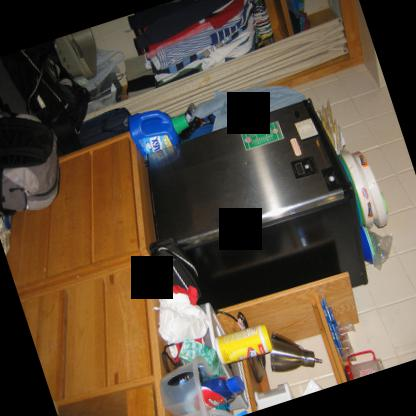backpack: (0, 108, 62, 212)
handbag: (148, 238, 204, 303)
suitcase: (0, 42, 91, 145), (80, 106, 131, 147)
